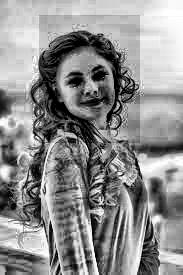happy: (39, 15, 140, 143)
